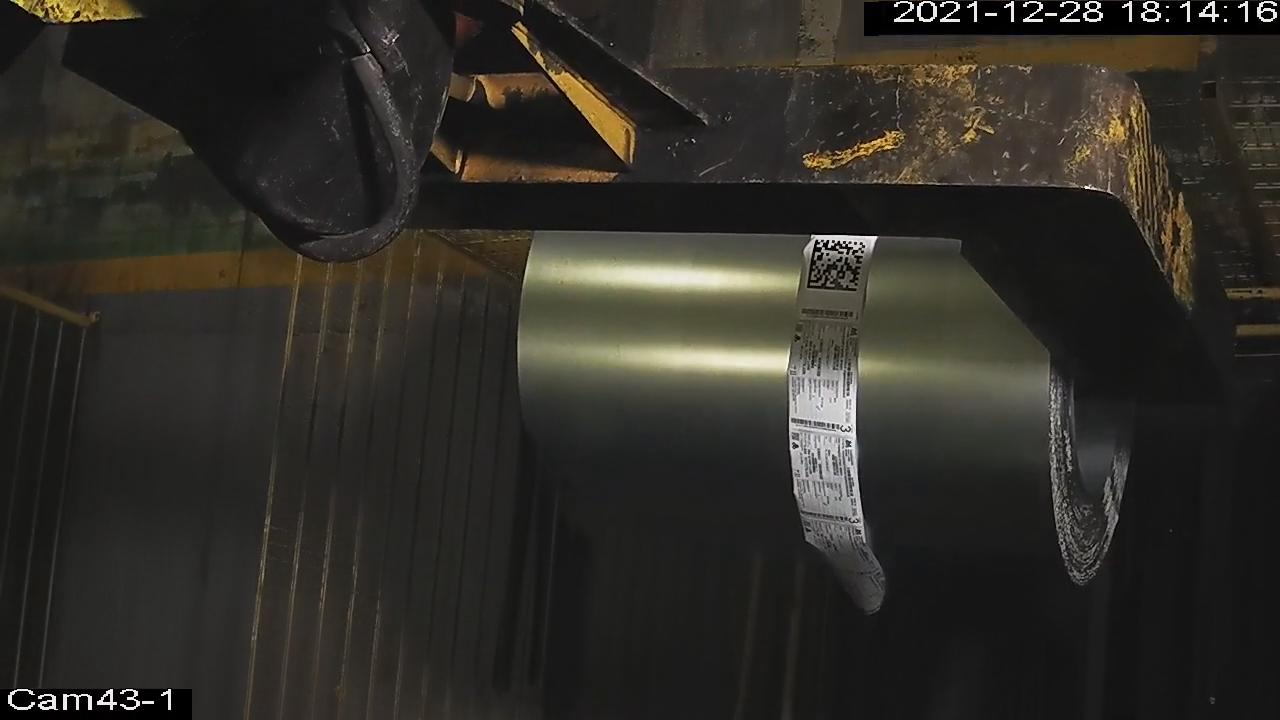data matrix: (803, 234, 869, 295)
